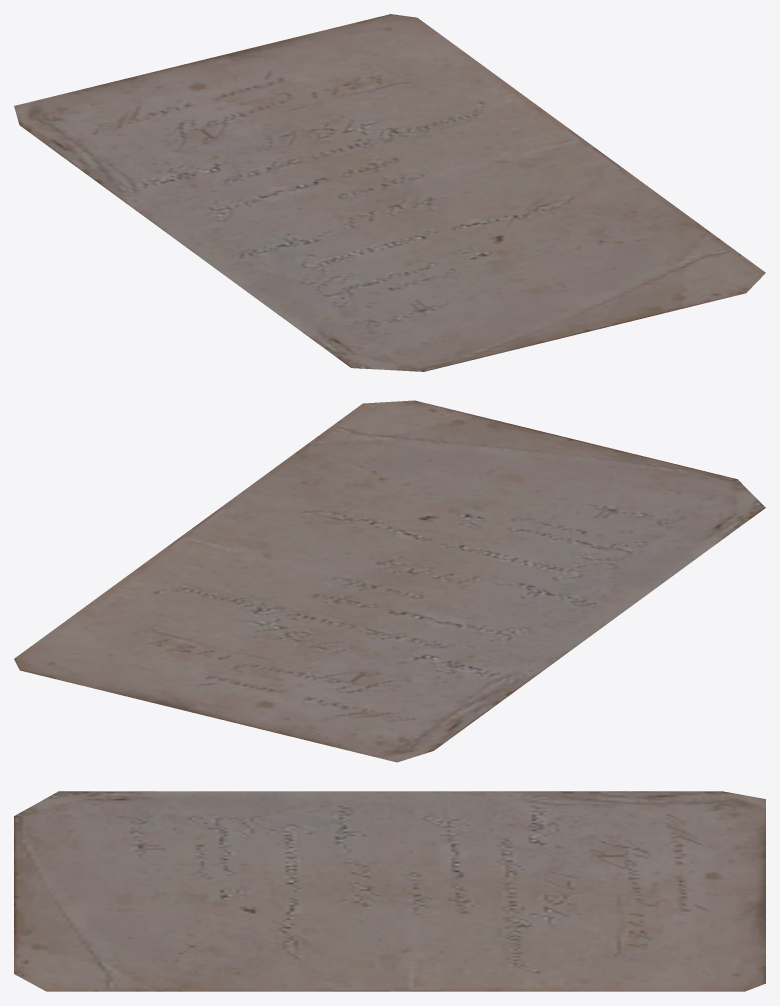
The model's file is book_page.fbx.
3 views of the same model, one above another, from view 1: azimuth 30°, elevation 25°; view 2: azimuth 150°, elevation 25°; view 3: azimuth 270°, elevation 25° (orthographic).
Visible parts, largest first — view 1: book_page; view 2: book_page; view 3: book_page.
Boxes of the visible parts, x1,y1,x2,y2 form: book_page: (14,14,765,371); book_page: (14,400,765,762); book_page: (14,791,765,991).
Bounding box in the file's own units: 23.46 × 6.07e-06 × 37.27.
